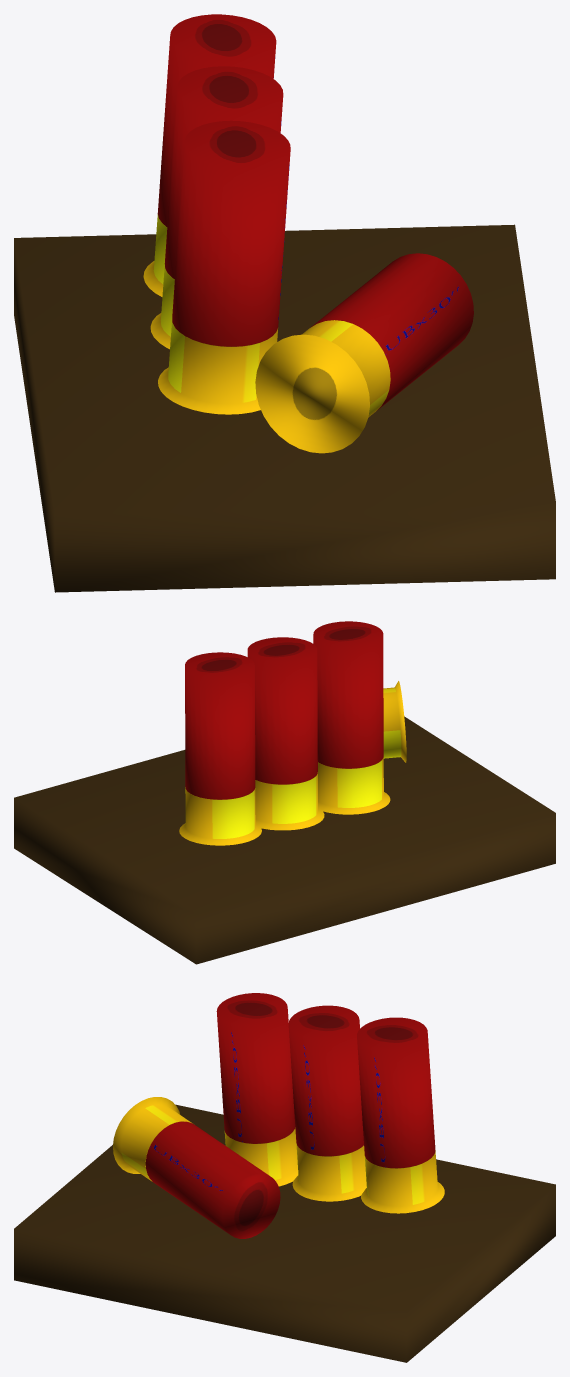
The model's file is escopeta_off.fbx.
3 renders of one model, top to bottom at view 1: azimuth 30°, elevation 25°; view 2: azimuth 150°, elevation 25°; view 3: azimuth 270°, elevation 25°, orthographic. The views are drawn at different scales.
Visible parts, largest first — view 1: Cube; view 2: Cube; view 3: Cube.
Part boxes in pixels (bbox=[...]): Cube: bbox=[14, 14, 555, 592]; Cube: bbox=[14, 621, 555, 964]; Cube: bbox=[14, 993, 555, 1362].
Size of the model in its own units: 0.8118 by 0.4209 by 0.8883.
2 materials, 1 textured.
